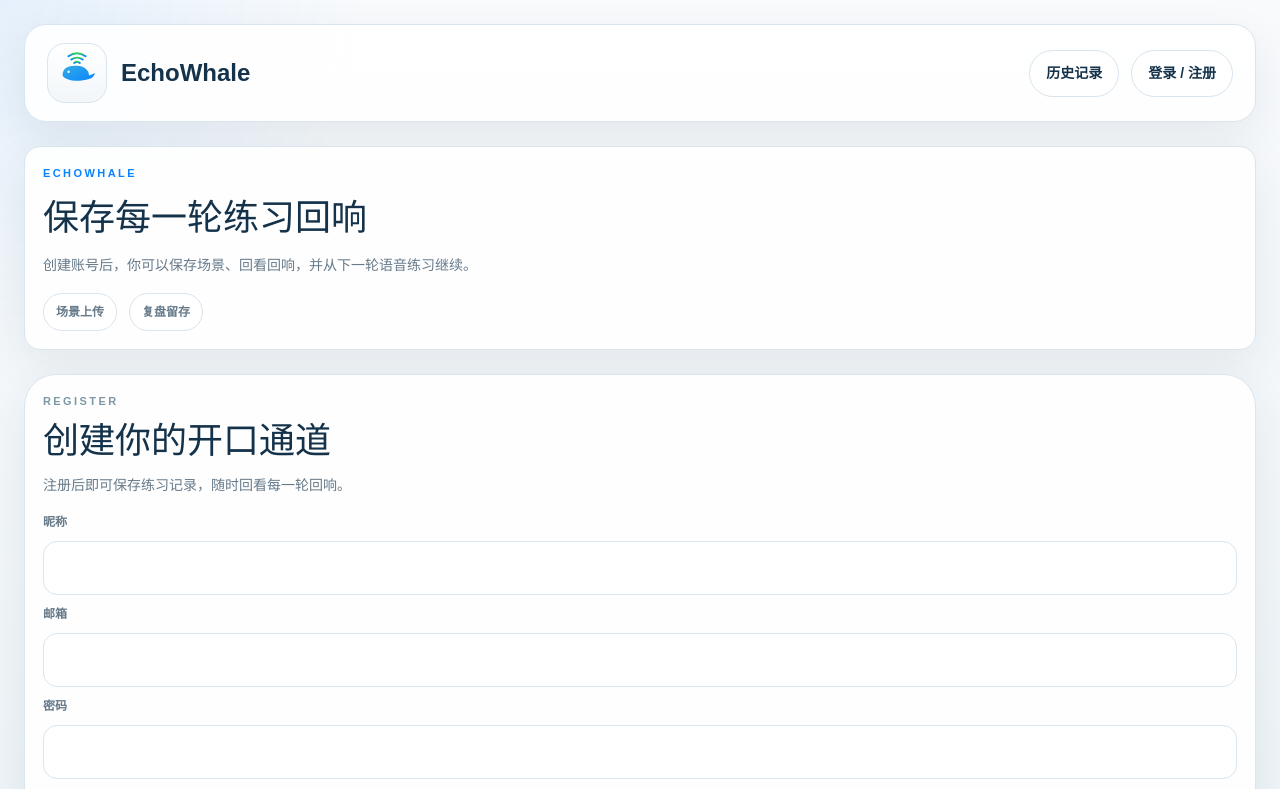
App › shows a localized registration validation error for invalid email format
Type "Echo Learner" into the field labelled "昵称" at (640, 568), box [43,541,1237,595]
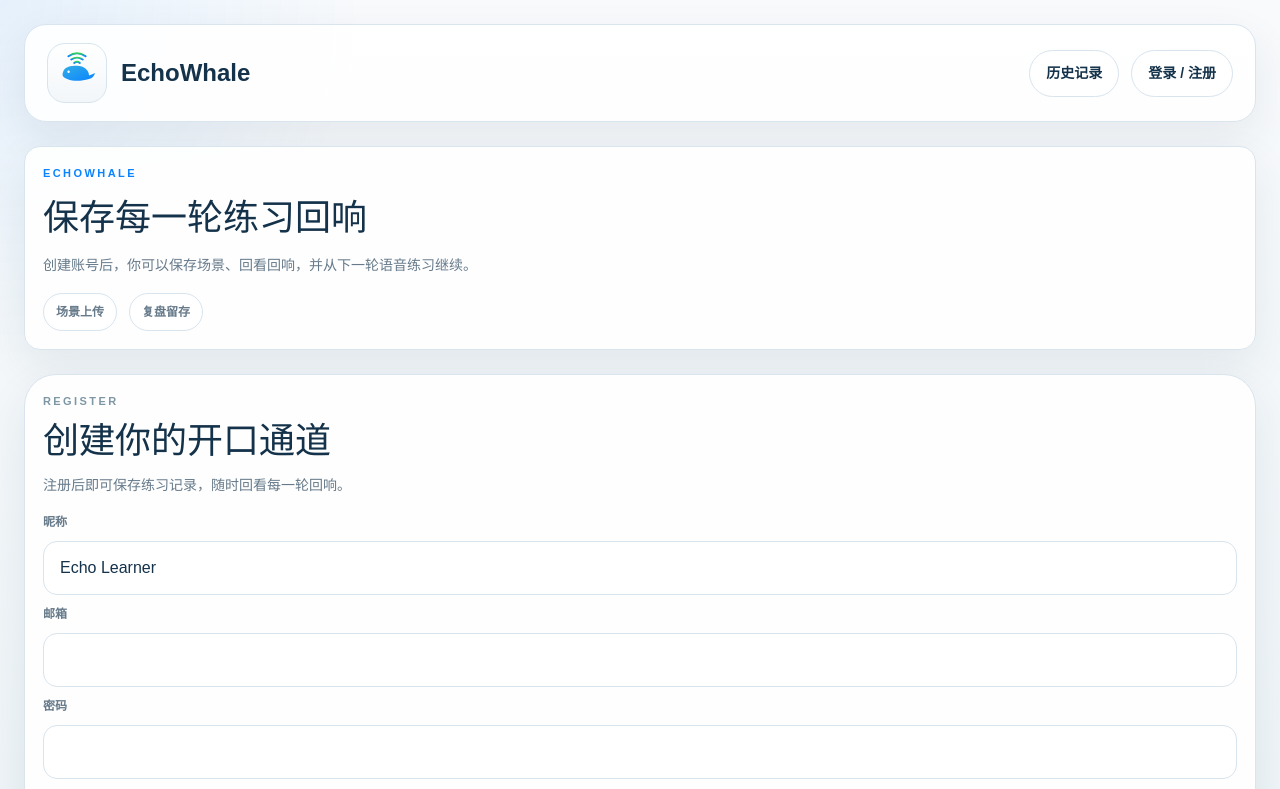
Type "not-an-email" into the field labelled "邮箱" at (640, 660), box [43,633,1237,687]
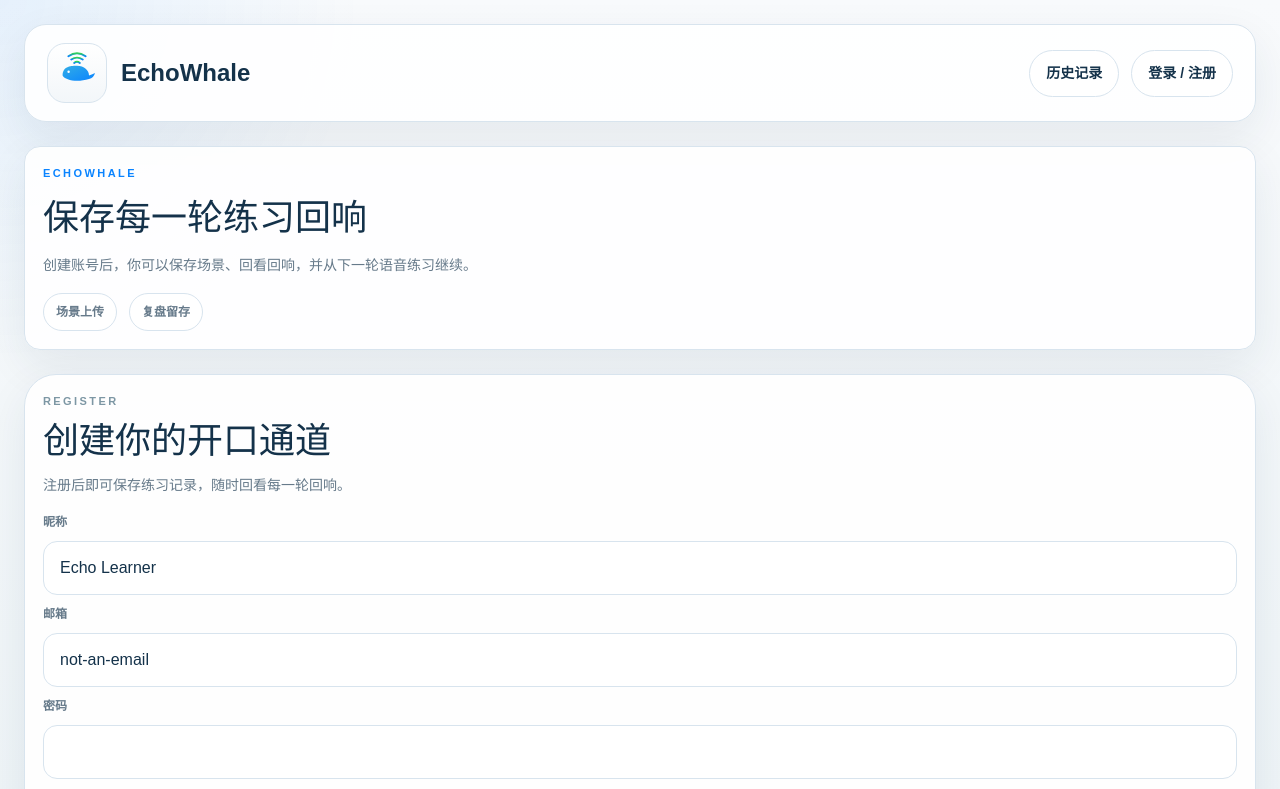
Type "secret123" into the password field labelled "密码" at (640, 752), box [43,725,1237,779]
(page scrolled)
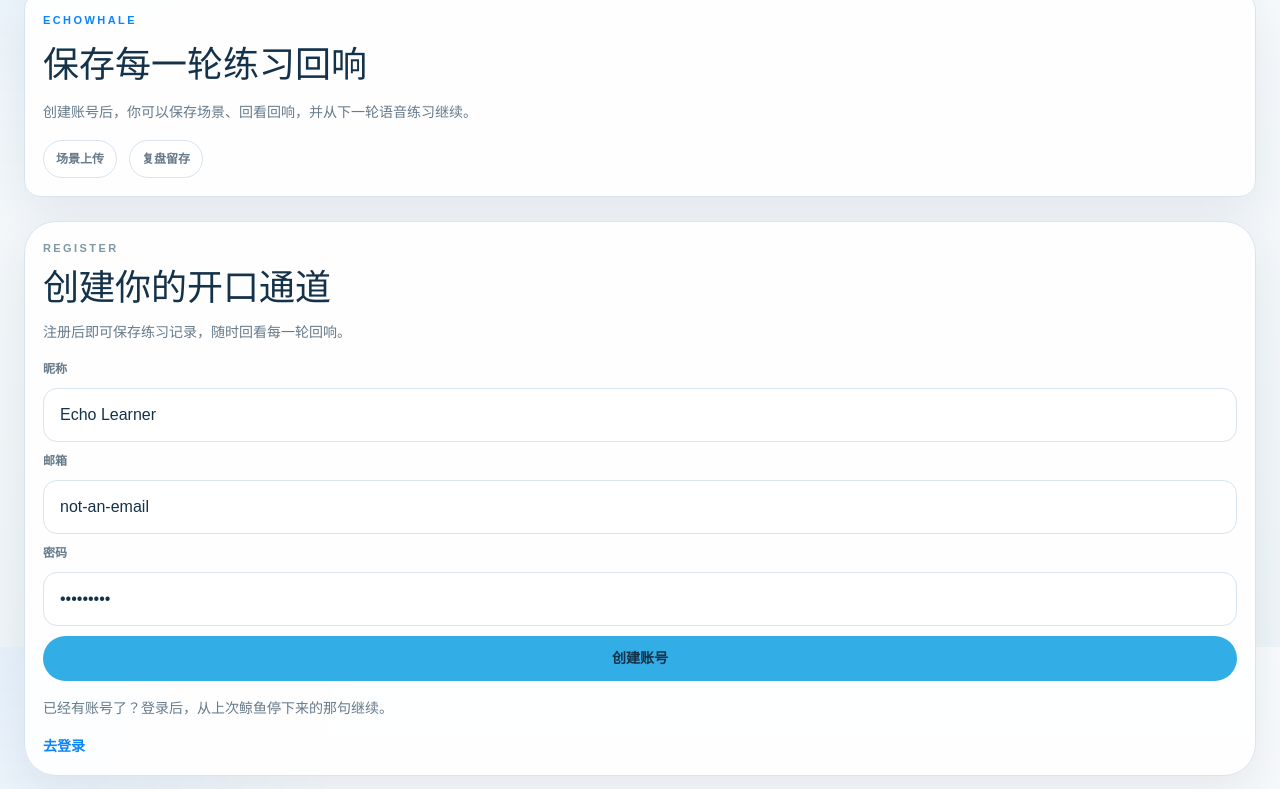
Click the button "创建账号" at (640, 658), box [43,636,1237,681]
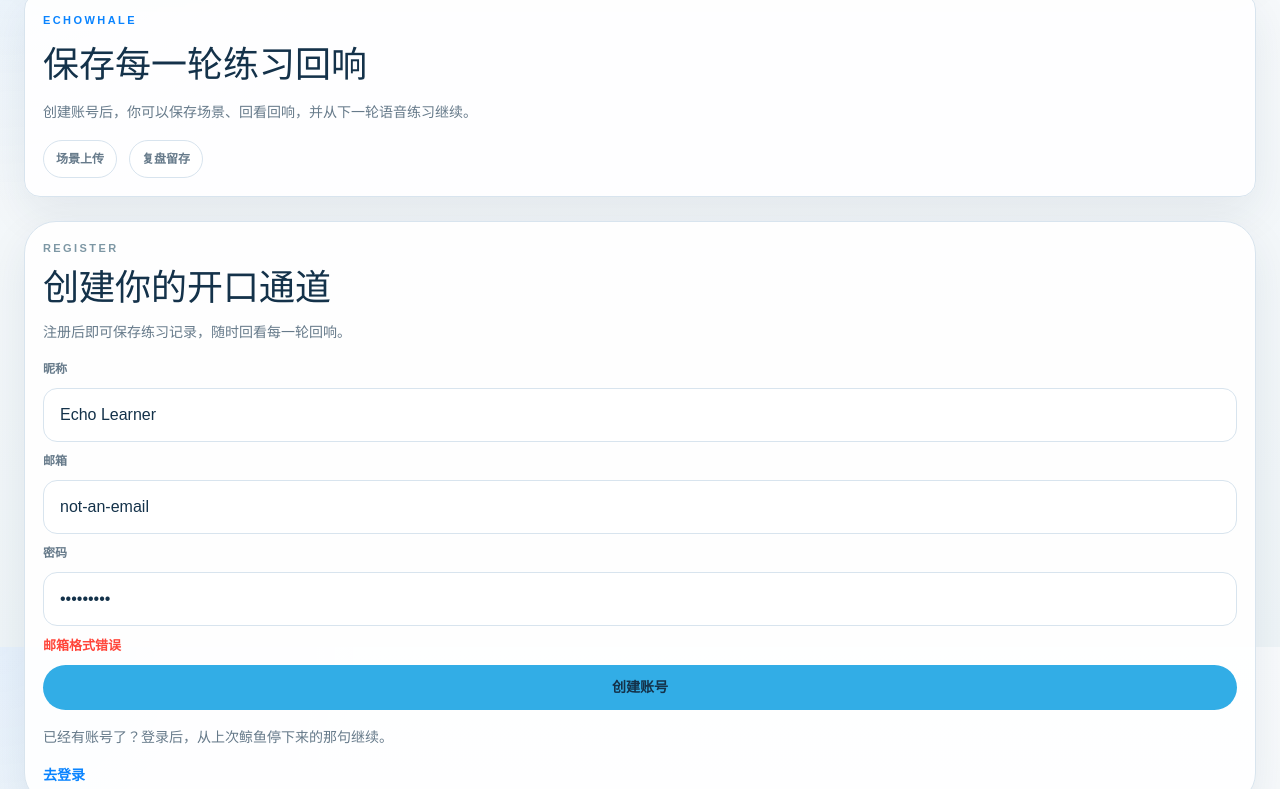
Check: the text "邮箱格式错误" is shown, box [43,638,121,653]
